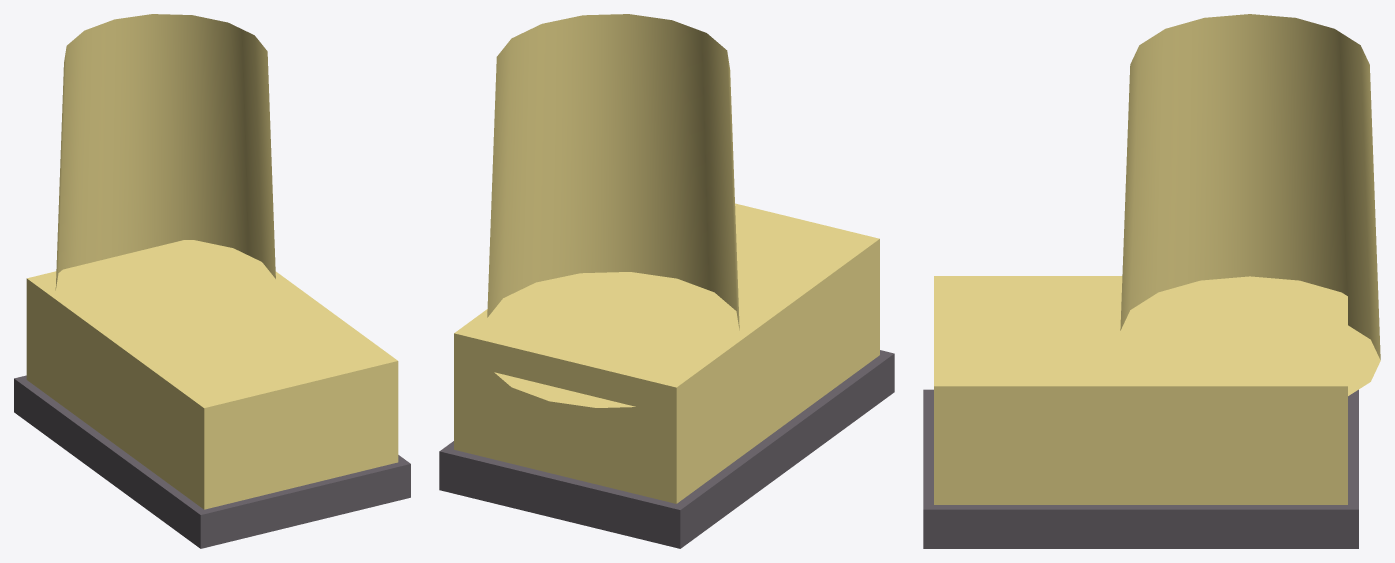
File: tall_rain_boot.glb
The picture shows the model from 3 angles, left to right: view 1: azimuth 30°, elevation 25°; view 2: azimuth 150°, elevation 25°; view 3: azimuth 270°, elevation 25°; orthographic projection. The views are drawn at different scales.
Visible parts, largest first — view 1: Tall Rain Boot; view 2: Tall Rain Boot; view 3: Tall Rain Boot.
Part boxes in pixels (<box>): Tall Rain Boot: <box>14,14,410,548</box>; Tall Rain Boot: <box>439,14,894,548</box>; Tall Rain Boot: <box>923,14,1380,548</box>.
Size of the model in its own units: 0.26 by 0.43 by 0.42.
